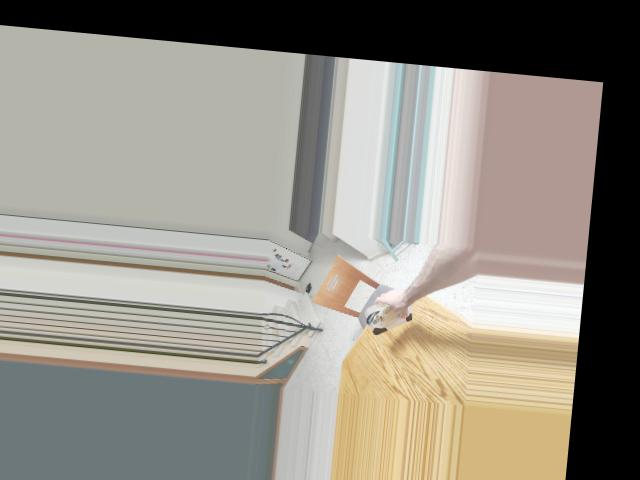cheese: (363, 287, 418, 338)
